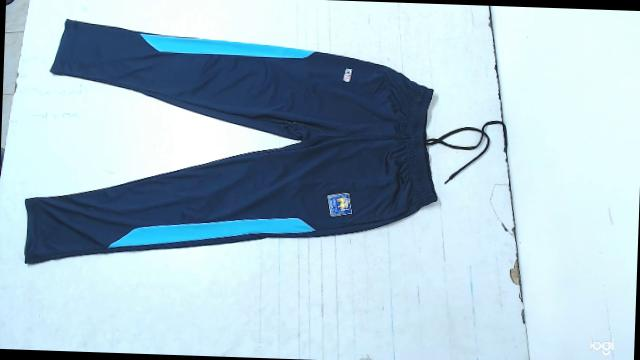new-garment: (25, 20, 443, 263)
